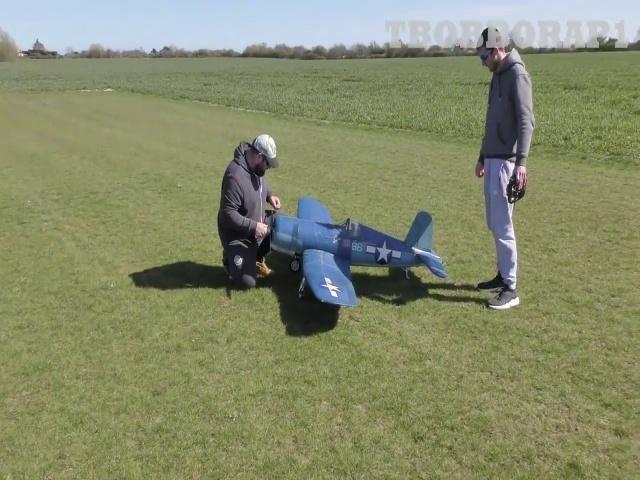Airplane: (268, 196, 447, 306)
